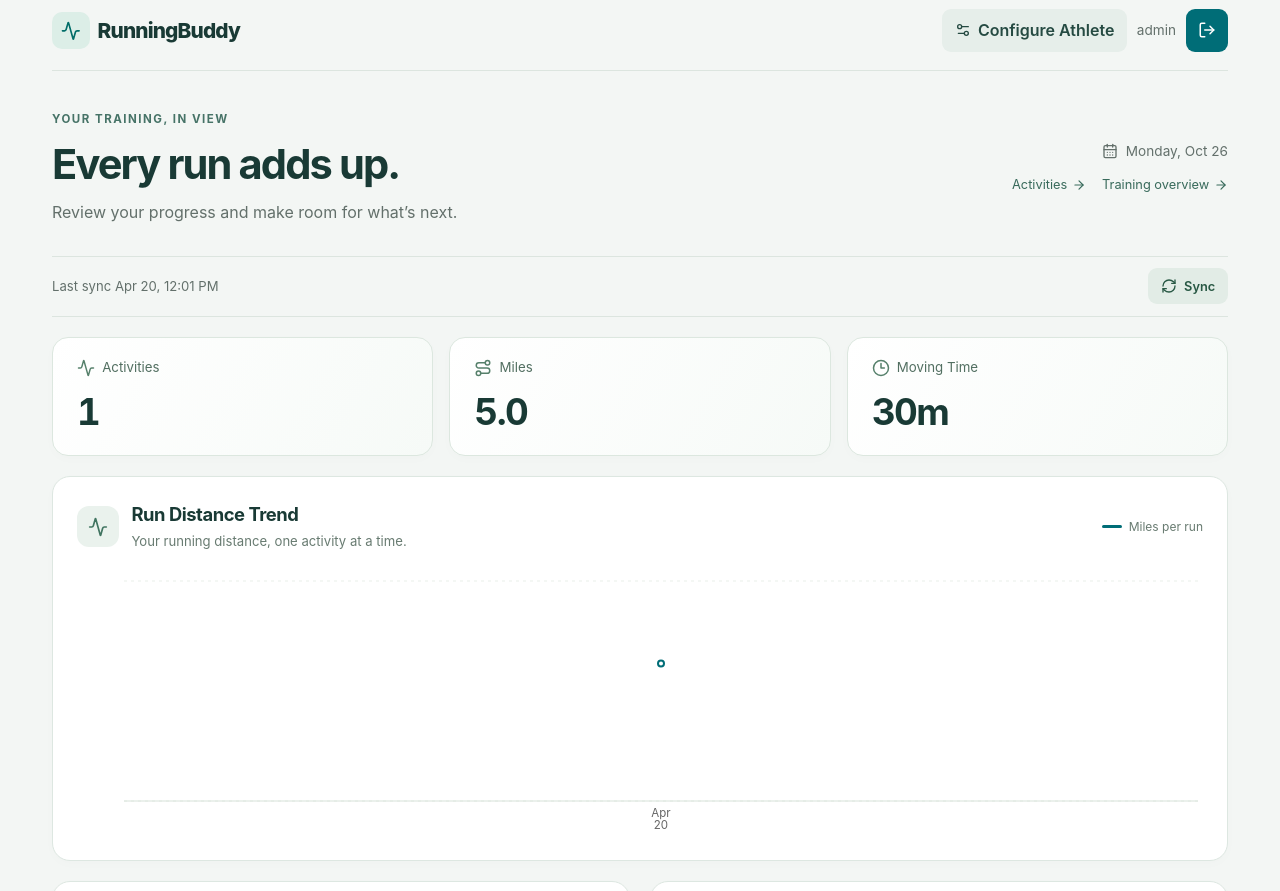
App › renders dashboard data when authenticated
Expected: the button "Sync" is enabled, [1148,268,1228,304]
Click the button "Configure Athlete" at (1035, 30), box [942,9,1127,52]
(page scrolled)
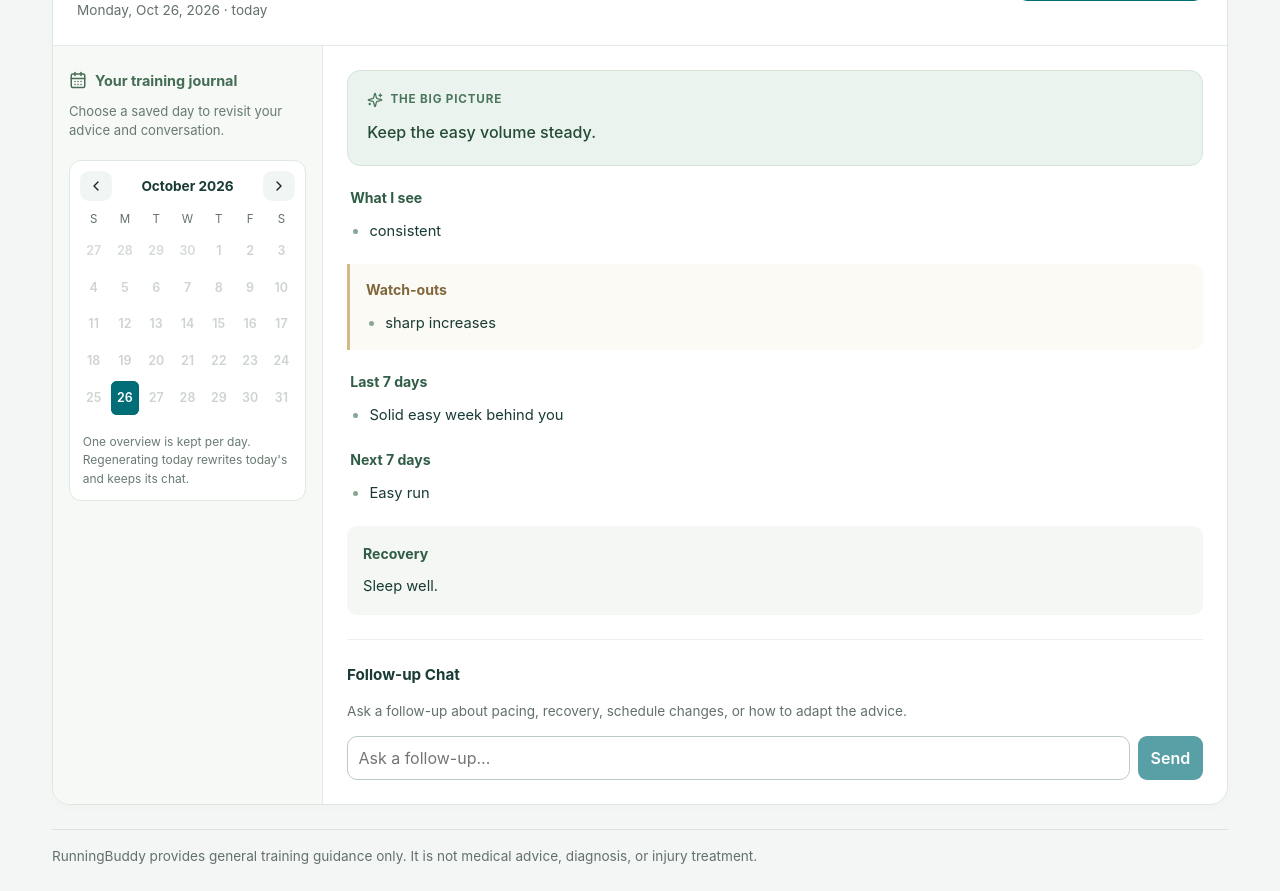
Expected: the text "Keep the easy volume steady." is shown, [367,122,596,142]
Expected: the text "general training guidance only" is shown, [52,848,757,864]
Type "How hard should tomorrow be?" into the field with placeholder "Ask a follow-up..." at (738, 758), box [347,736,1130,780]
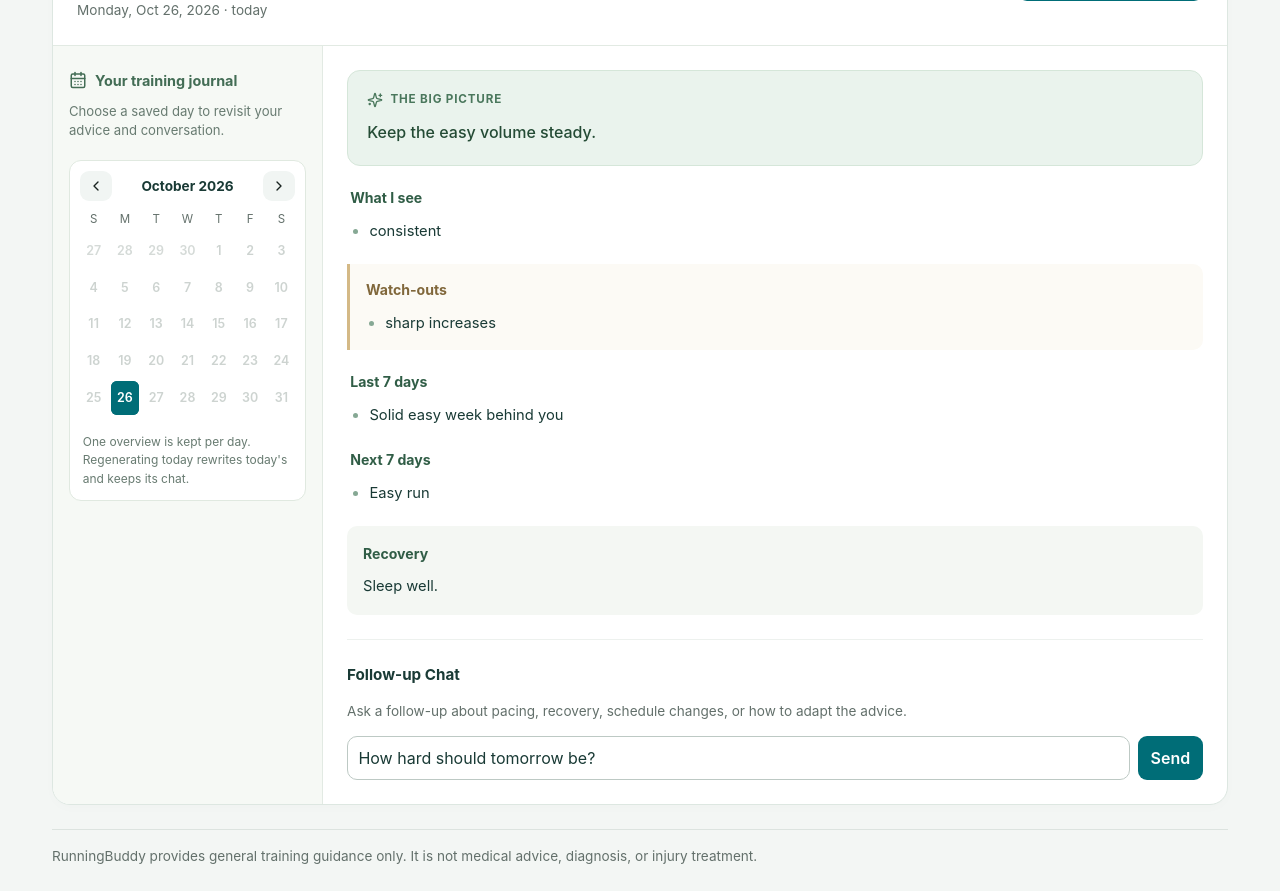
Click the button "Send" at (1170, 758), box [1138,736,1203,780]
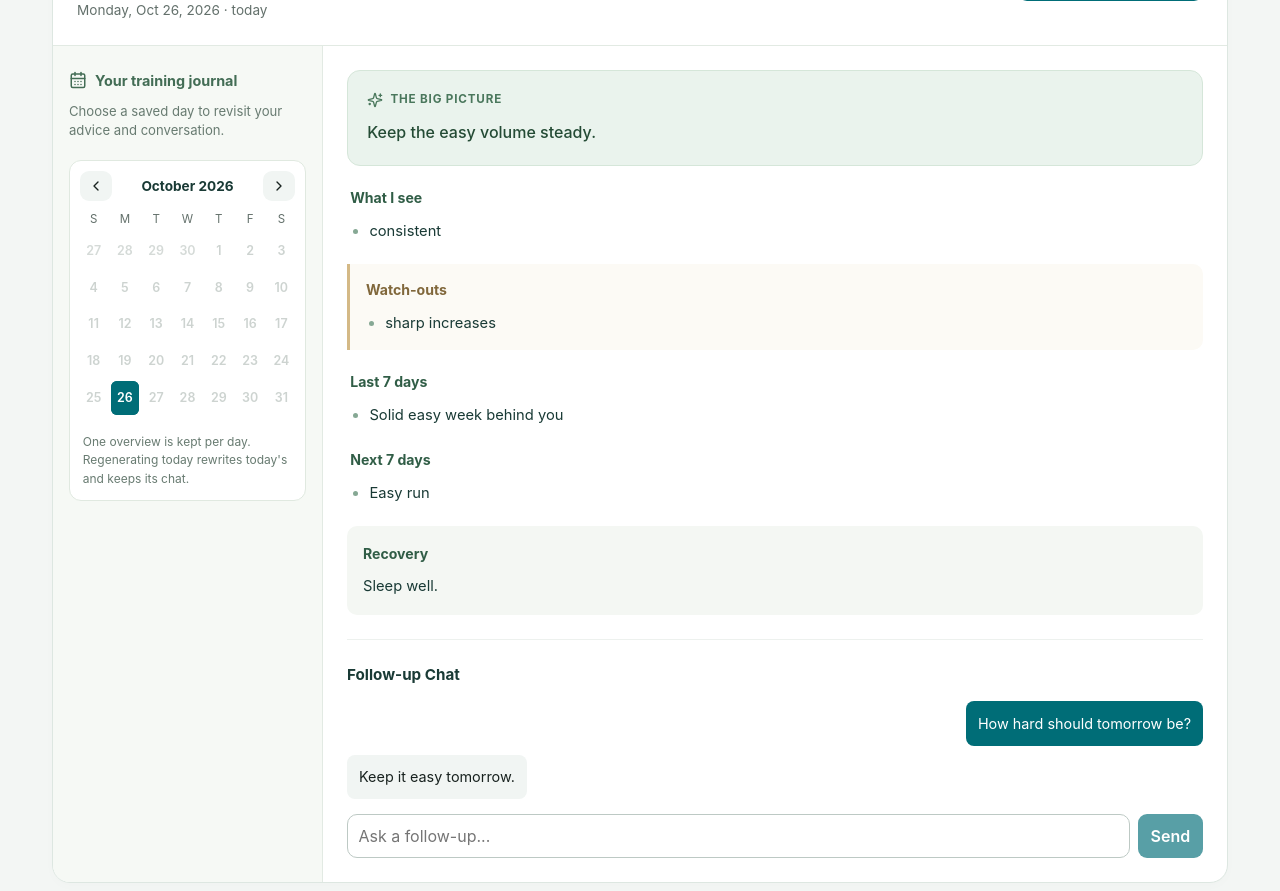
Result: the text "Keep it easy tomorrow." is shown at [347,755,527,799]
